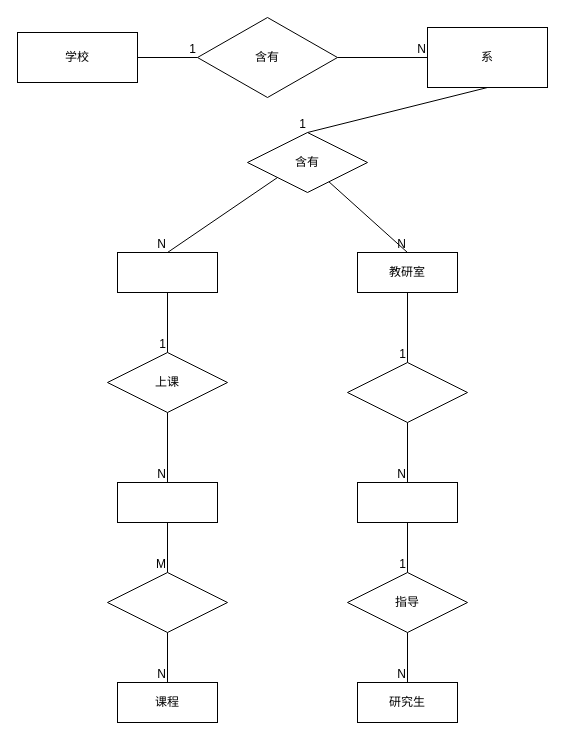
The diagram is 565 pixels wide and 740 high, and some of its shapes have lost their labels. Here are the shapes that lost their labels. From the top down, the box of each, then its label:
(116, 252, 218, 292): 班级
(346, 362, 468, 422): 工作
(116, 482, 218, 522): 学生
(356, 482, 458, 522): 教员
(106, 572, 228, 632): 选修
